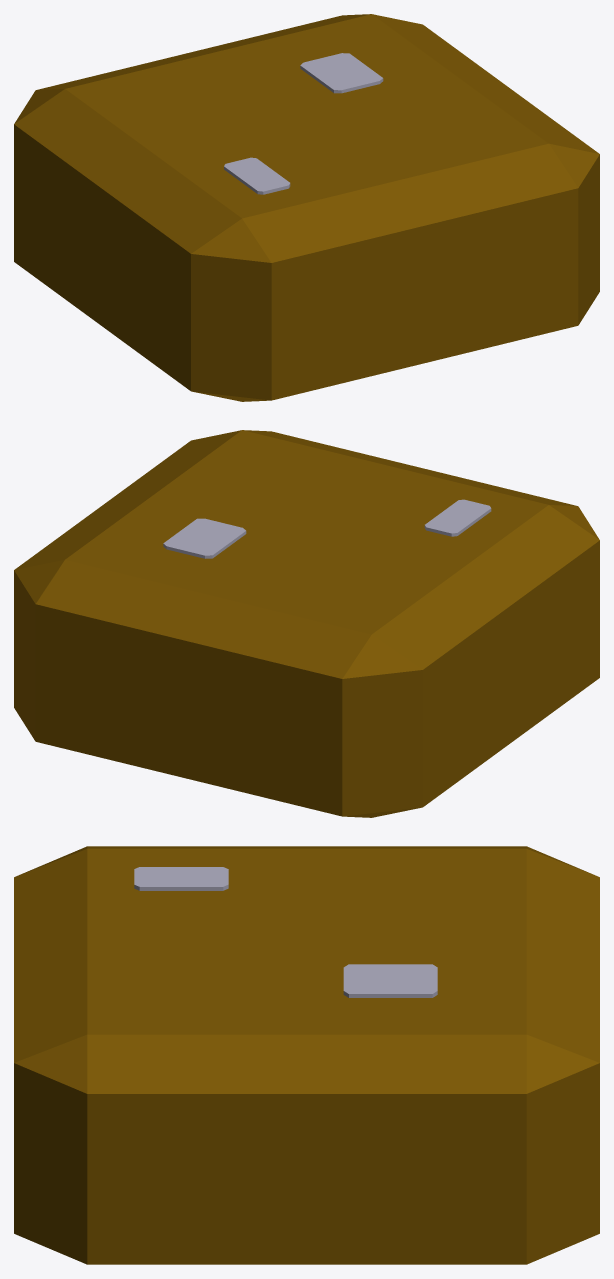
The model's file is Croisement_terre_construct.fbx.
The picture shows the model from 3 angles, top to bottom: view 1: azimuth 30°, elevation 25°; view 2: azimuth 150°, elevation 25°; view 3: azimuth 270°, elevation 25°; orthographic projection. The views are drawn at different scales.
Visible parts, largest first — view 1: block_rounded_38, floor_half_49, floor_half_44; view 2: block_rounded_38, floor_half_49, floor_half_44; view 3: block_rounded_38, floor_half_49, floor_half_44.
Part boxes in pixels (x1=…): block_rounded_38: x1=14, y1=14, x2=599, y2=401; floor_half_49: x1=300, y1=53, x2=383, y2=93; floor_half_44: x1=224, y1=157, x2=290, y2=194; block_rounded_38: x1=14, y1=430, x2=599, y2=817; floor_half_49: x1=163, y1=518, x2=246, y2=558; floor_half_44: x1=424, y1=499, x2=491, y2=536; block_rounded_38: x1=14, y1=846, x2=599, y2=1264; floor_half_49: x1=343, y1=964, x2=437, y2=997; floor_half_44: x1=134, y1=867, x2=228, y2=890.
Size of the model in its own units: 14 by 6.1 by 14.
